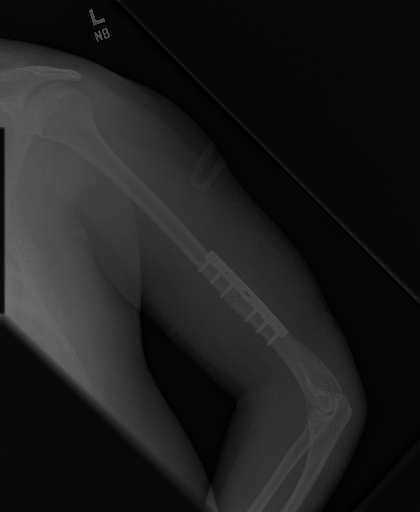implant: (197, 247, 291, 345)
